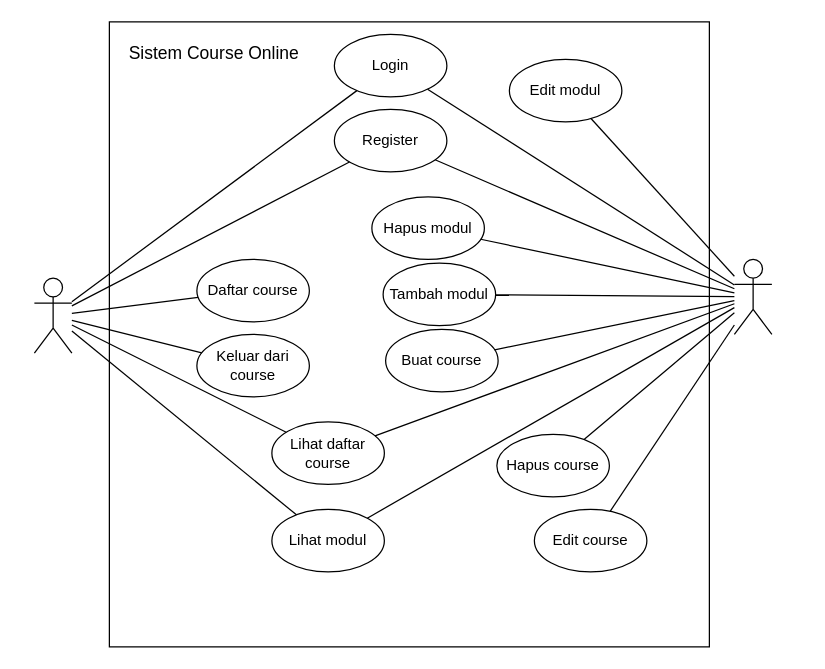
Some shapes in this 825 by 669 pixel diagram are drawn without their labels. Each missing label, with the centre of its shape:
"Pemilik Course" belongs at [752,296].
"User" belongs at [52,315].
